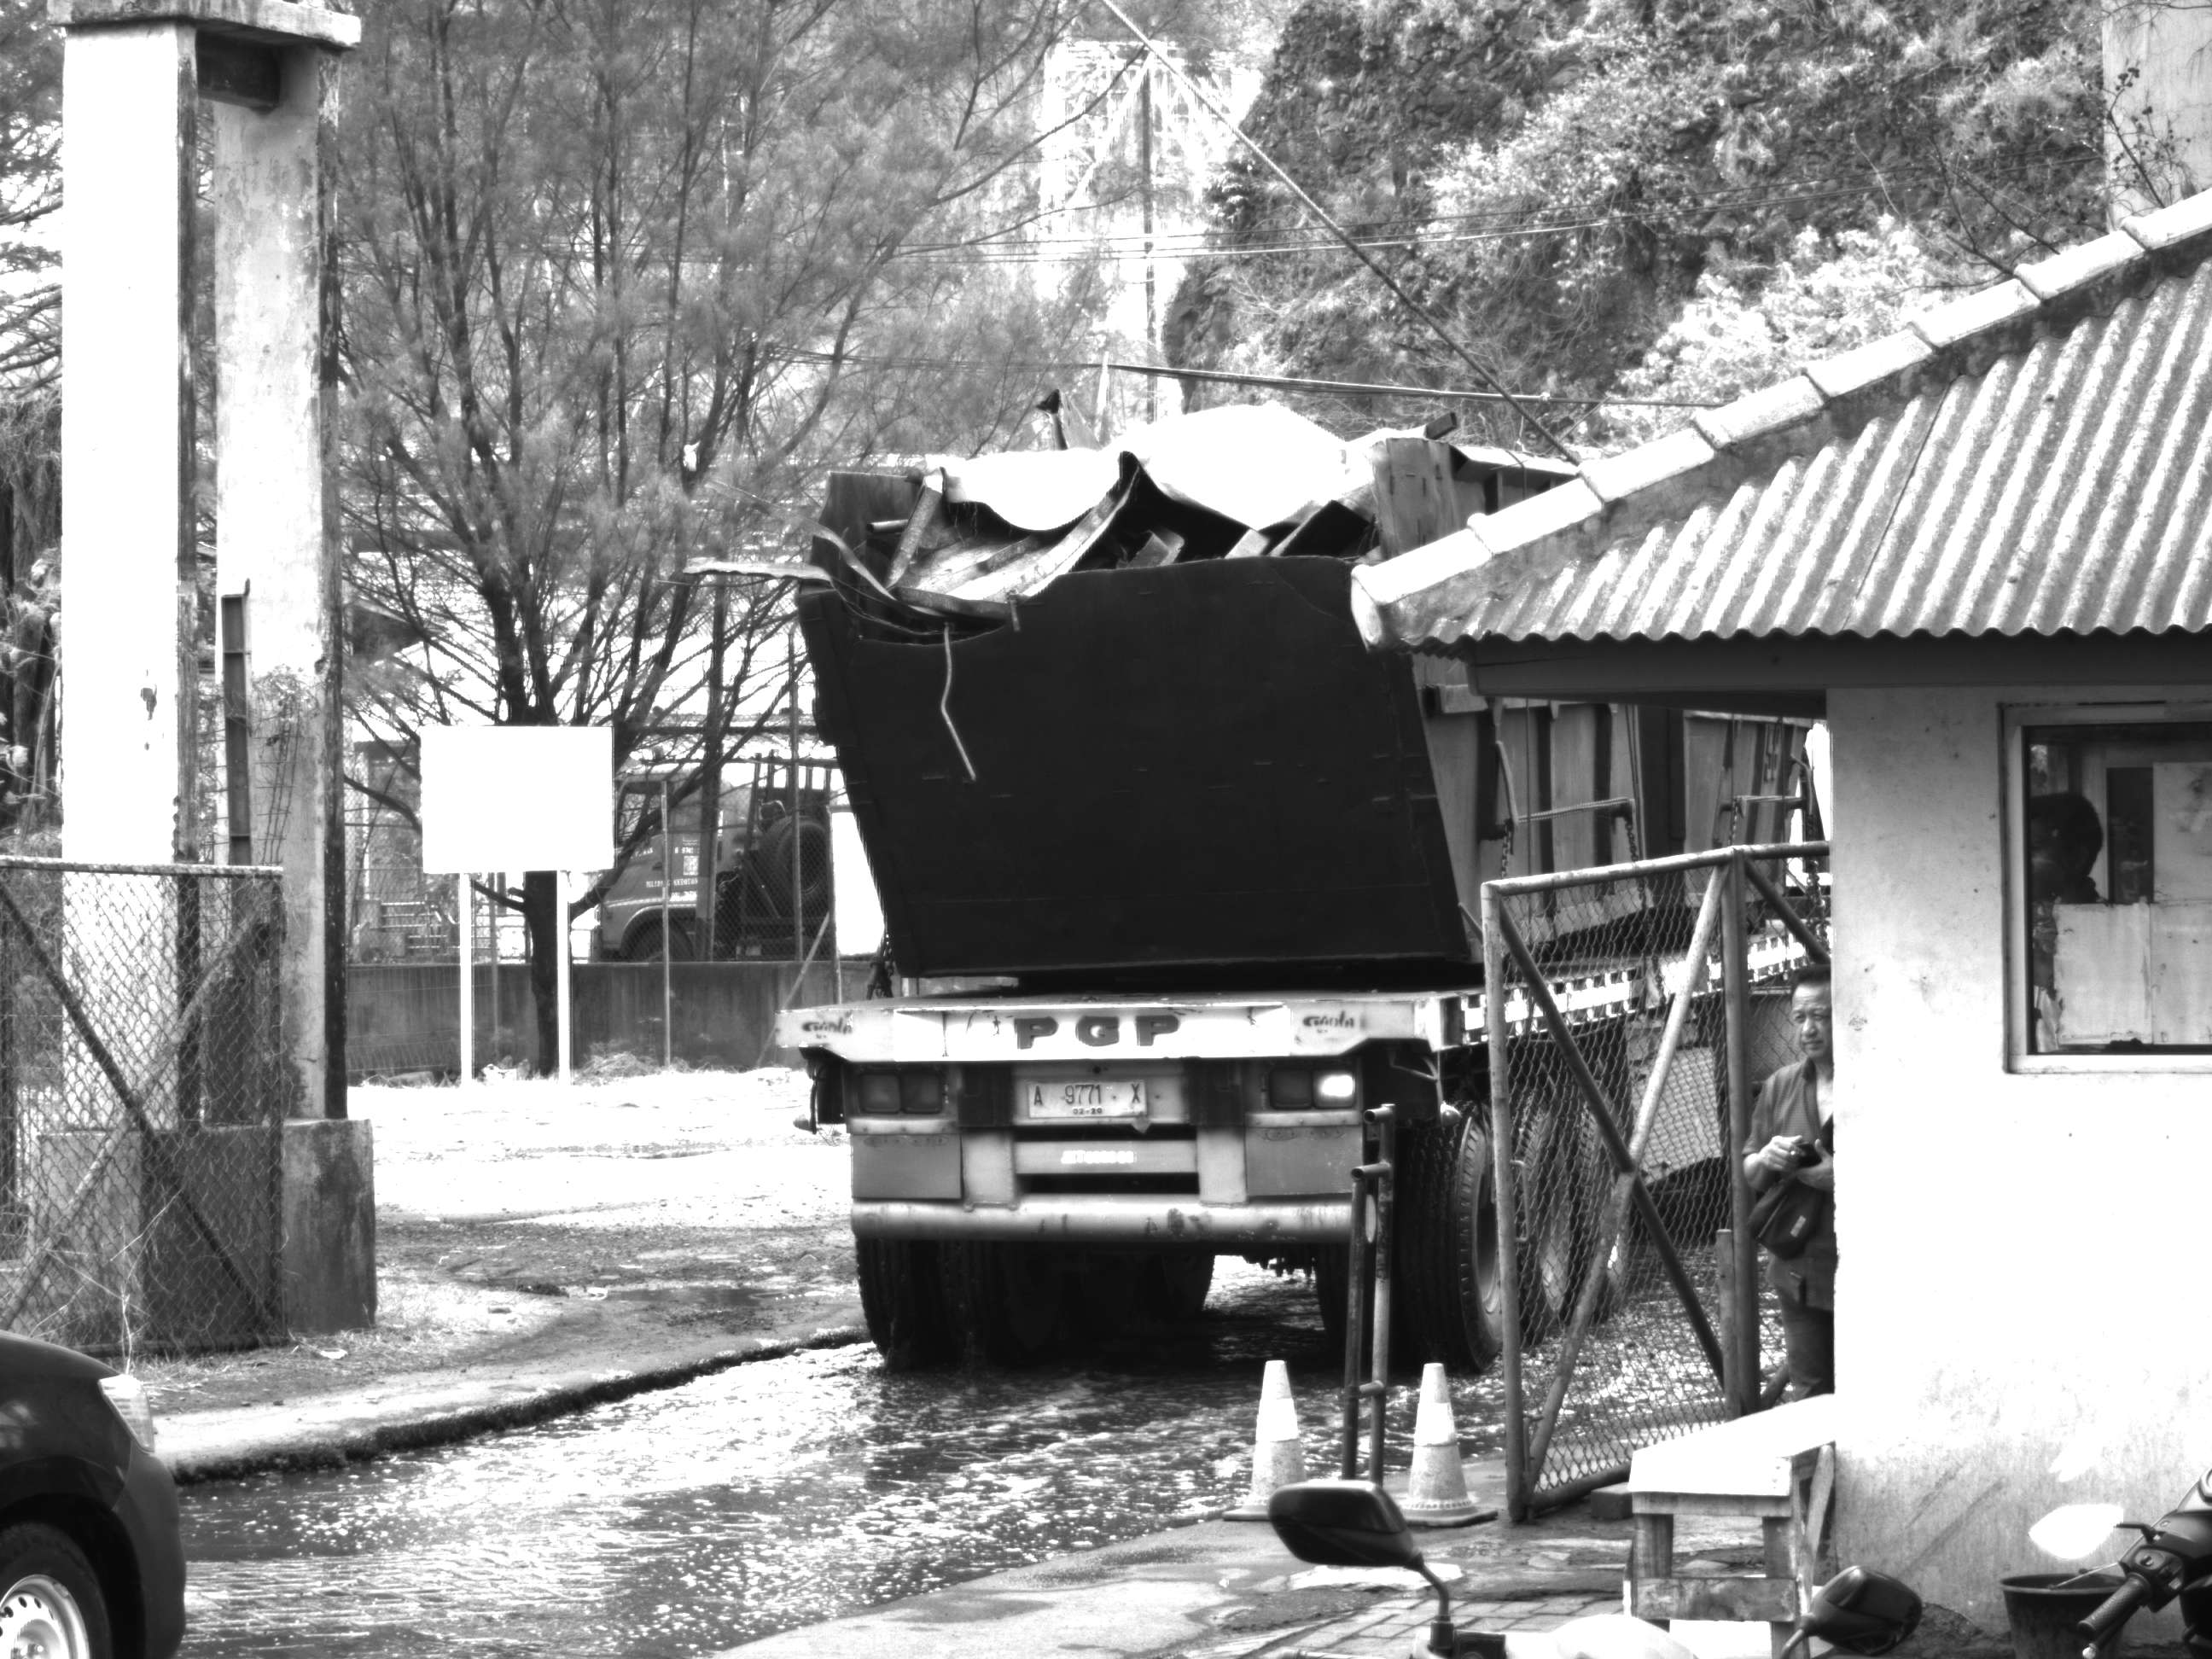day_truck_rear: (768, 983, 1524, 1398)
plate: (1024, 1076, 1156, 1121)
